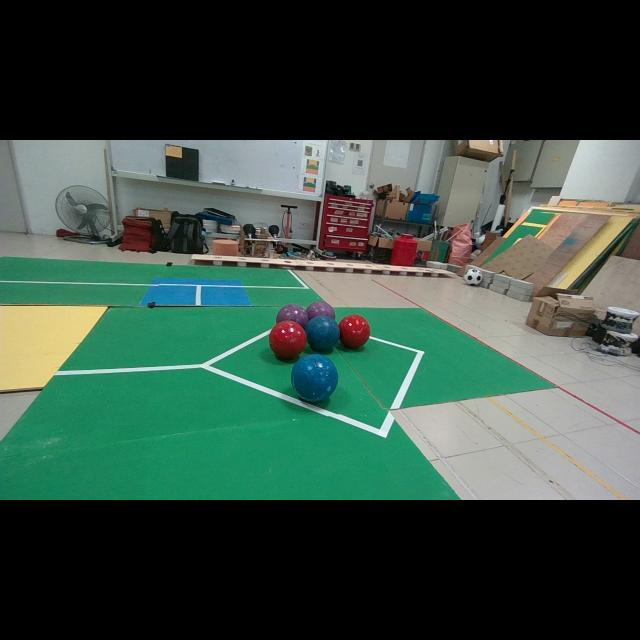B: (291, 354, 339, 402), (305, 316, 340, 351)
P: (277, 304, 309, 328), (306, 301, 335, 319)
R: (269, 320, 308, 360), (339, 314, 371, 348)
